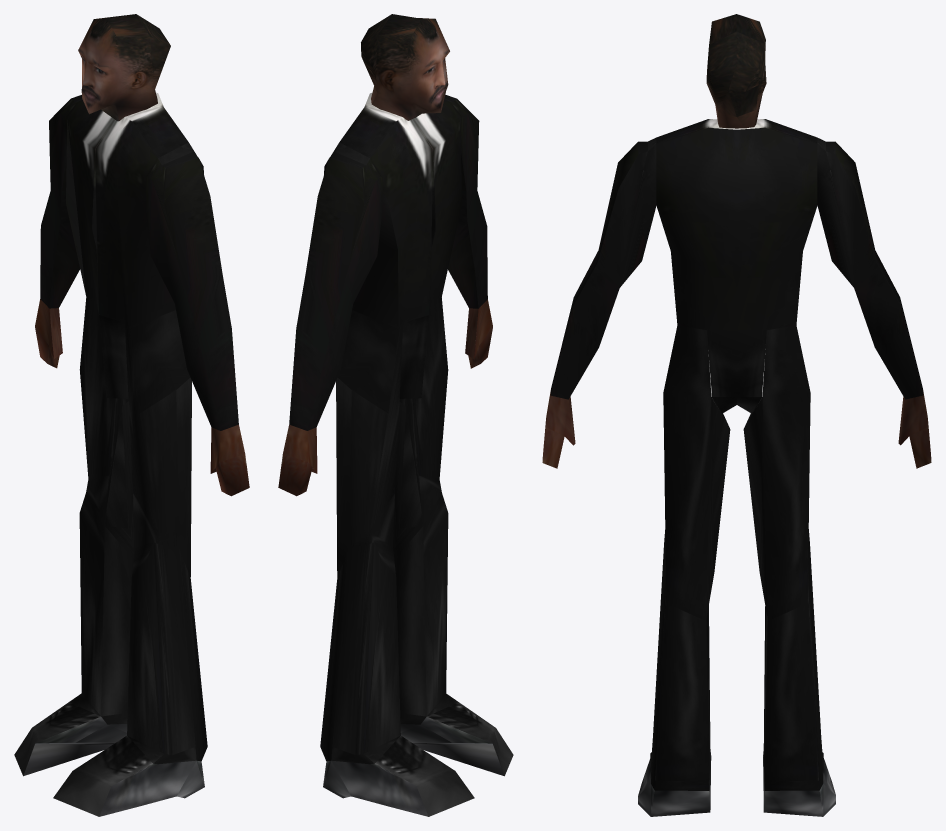
Rendered from psx_base_-_low_poly_michael_b_jordan.glb.
3 renders of one model, left to right at view 1: azimuth 30°, elevation 25°; view 2: azimuth 150°, elevation 25°; view 3: azimuth 270°, elevation 25°, orthographic. The views are drawn at different scales.
Visible parts, largest first — view 1: Object_2, Object_3; view 2: Object_2, Object_3; view 3: Object_2, Object_3.
Boxes of the visible parts, x1=… form: Object_2: x1=14, y1=92, x2=249, y2=816; Object_3: x1=78, y1=14, x2=170, y2=121; Object_2: x1=278, y1=93, x2=513, y2=816; Object_3: x1=361, y1=14, x2=449, y2=120; Object_2: x1=542, y1=119, x2=931, y2=816; Object_3: x1=706, y1=14, x2=766, y2=128.
Size of the model in its own units: 0.2494 by 1.35 by 0.6135.
2 materials, 2 textured.
